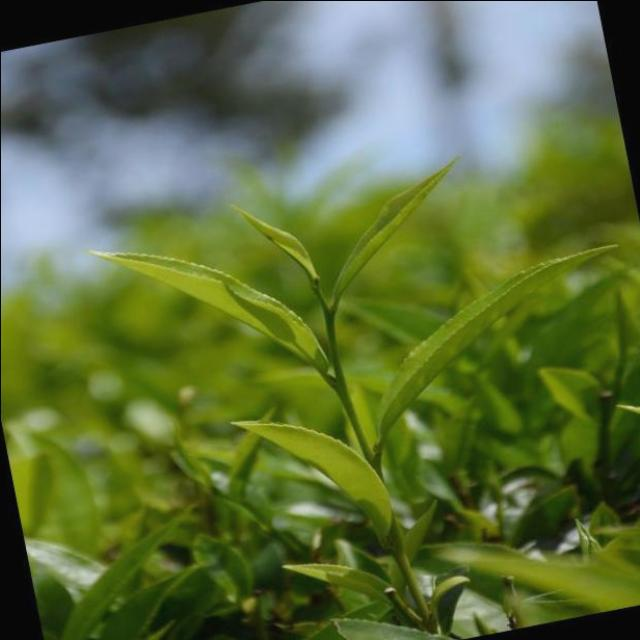Stem: (324, 310, 334, 323)
